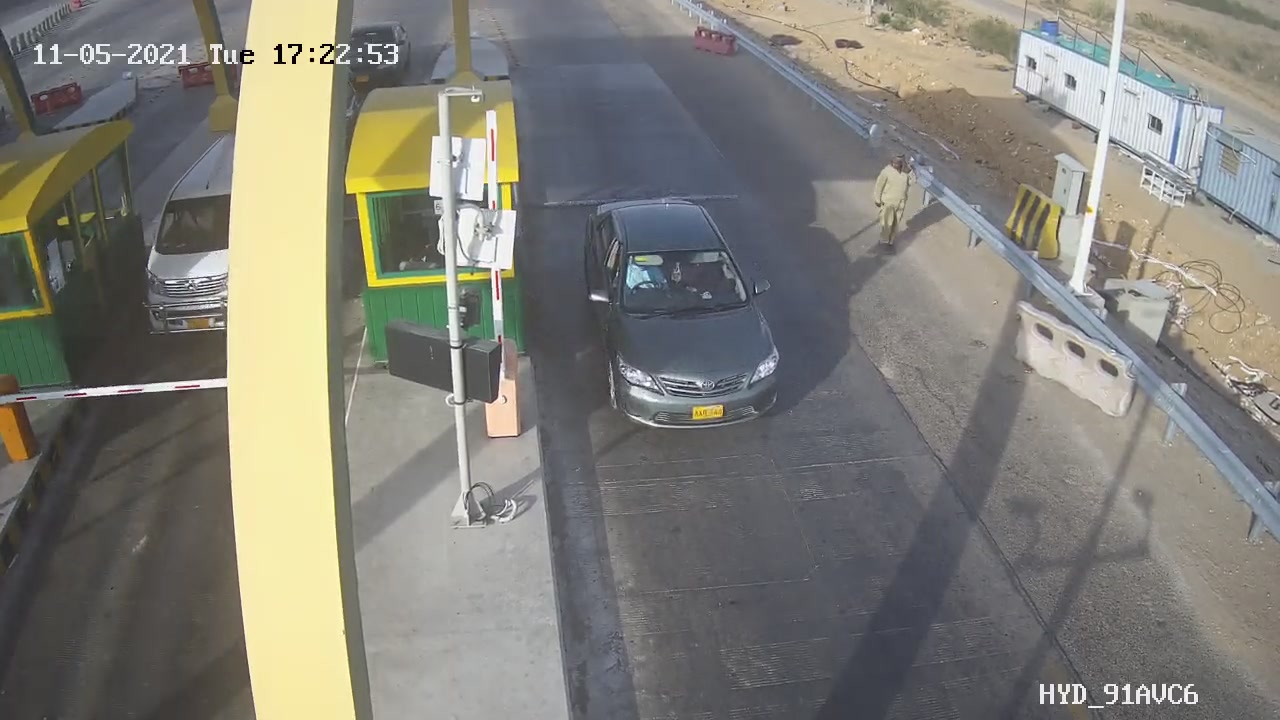F1: (563, 181, 804, 447)
